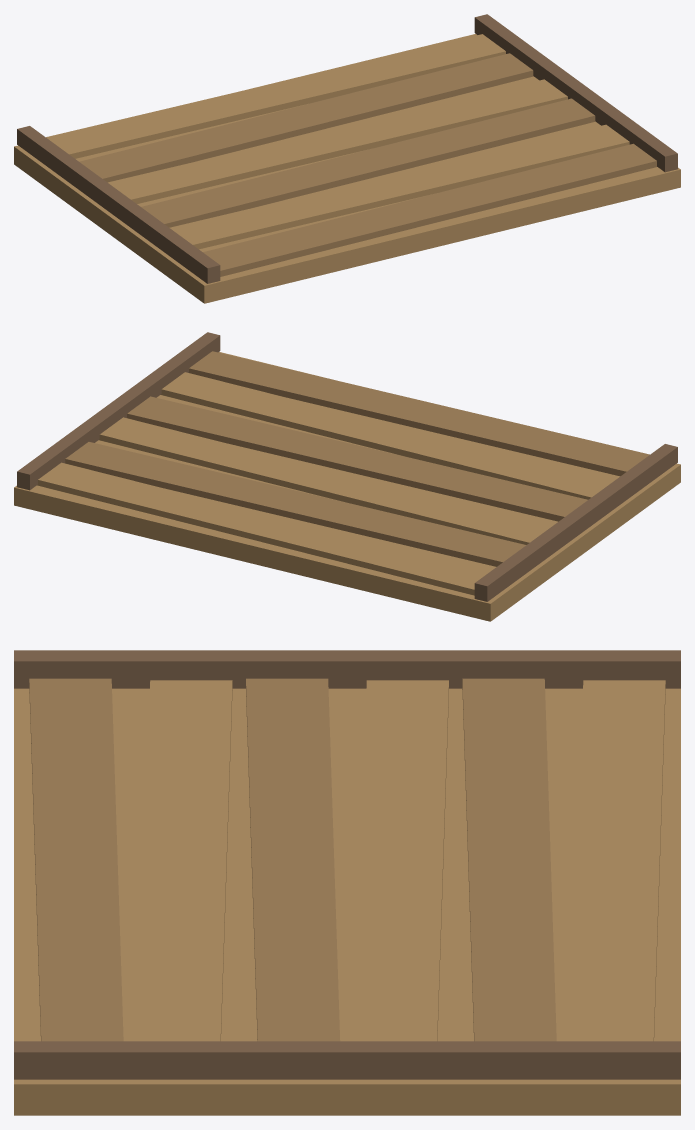
Rendered from track_wood_2lane.glb.
3 views of the same model, one above another, from view 1: azimuth 30°, elevation 25°; view 2: azimuth 150°, elevation 25°; view 3: azimuth 270°, elevation 25° (orthographic). The views are drawn at different scales.
Parts seen in each view (by area): view 1: track_wood_2lane; view 2: track_wood_2lane; view 3: track_wood_2lane.
Part boxes in pixels (left/top/right/bottom): track_wood_2lane: left=14, top=14, right=680, bottom=303; track_wood_2lane: left=14, top=332, right=680, bottom=621; track_wood_2lane: left=14, top=650, right=680, bottom=1115.
Bounding box in the file's own units: 4.45 × 0.31 × 3.08.
